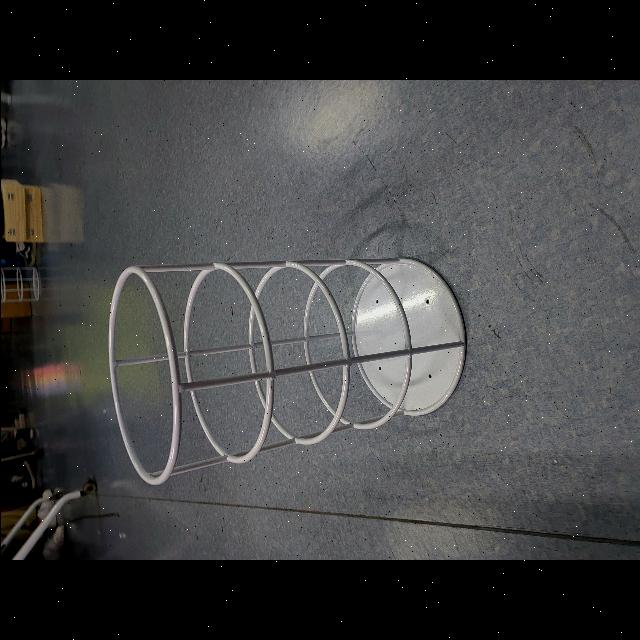S: (102, 242, 474, 490)
